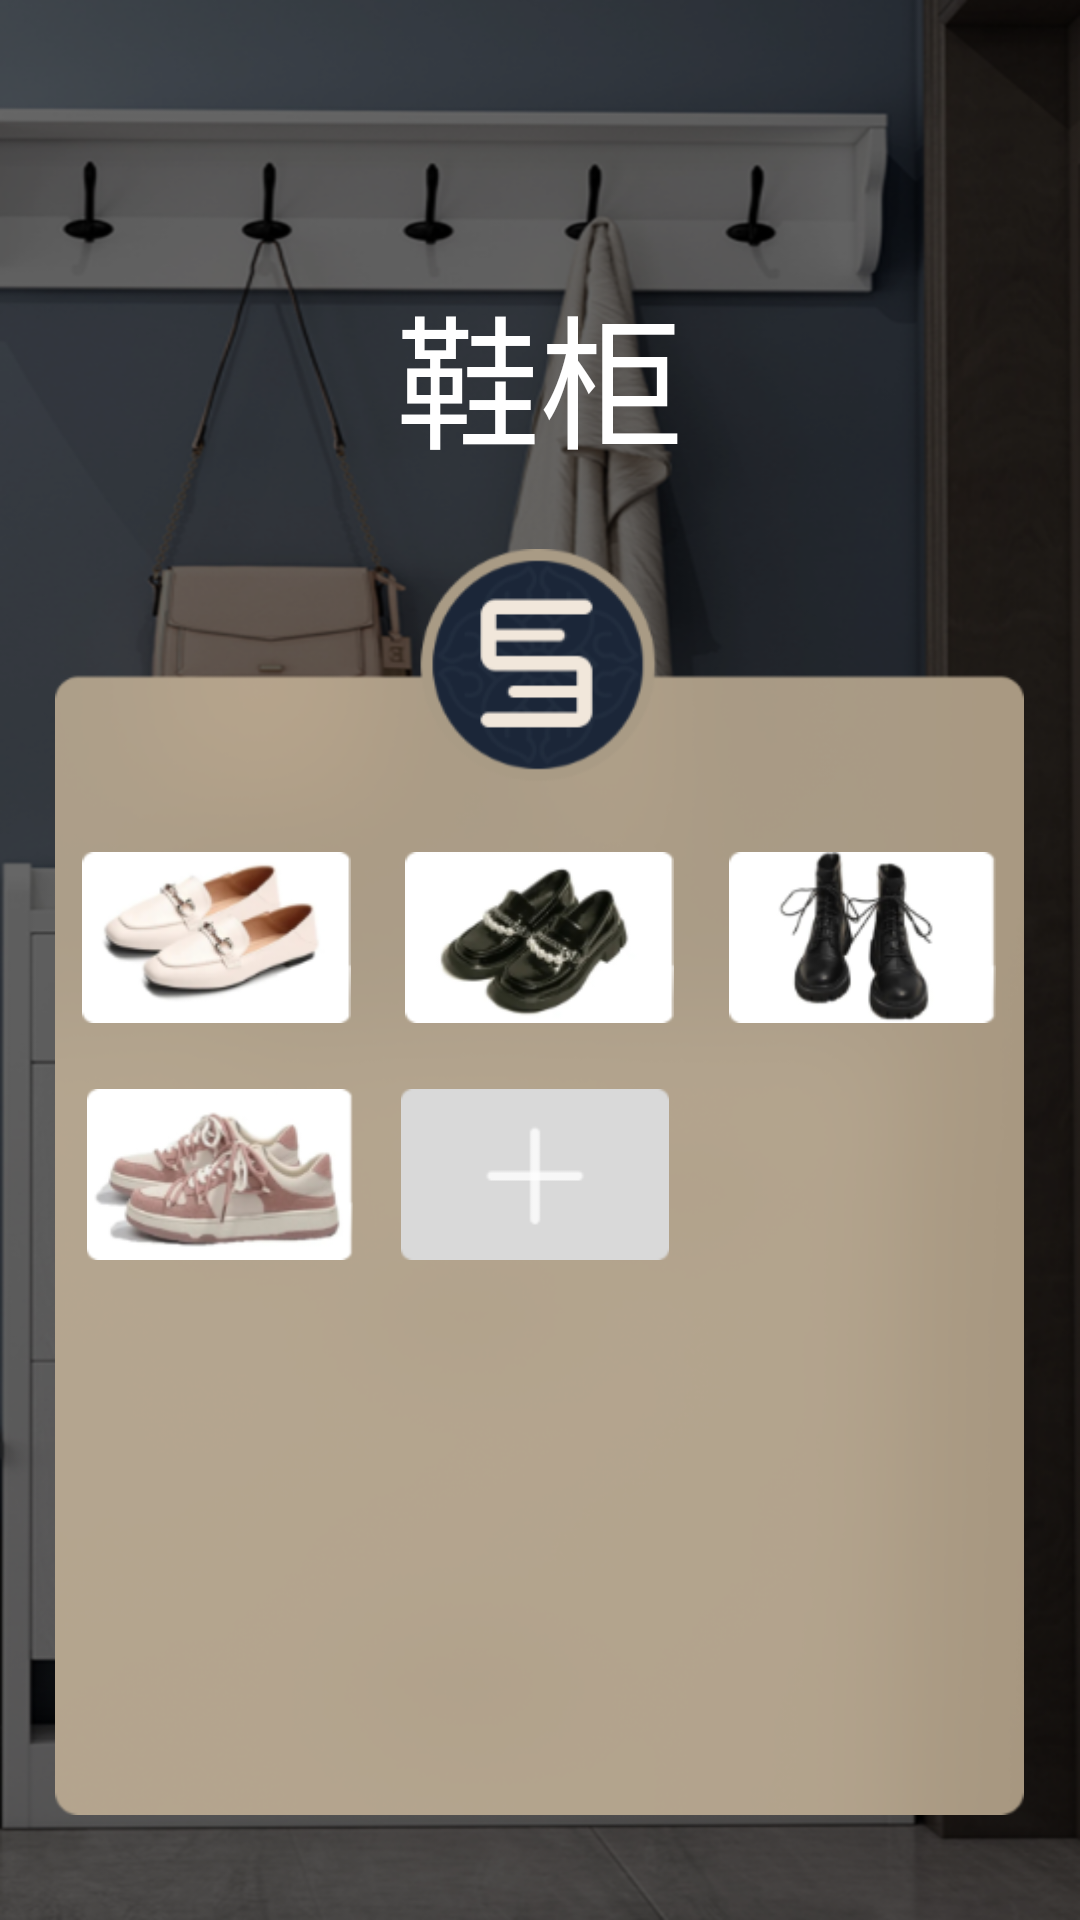

Where icons sit on this 1080×1920 app screen, as (x1, y1, x2, y2):
add second: (401, 1089, 669, 1260)
shoe: (82, 852, 351, 1023), (405, 852, 674, 1023), (729, 852, 996, 1023), (87, 1089, 353, 1260)
